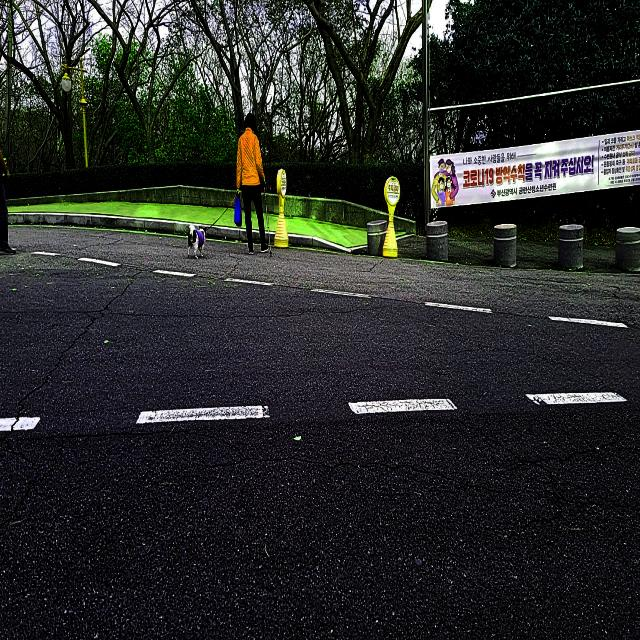Leashed_Dog: (187, 177, 260, 259)
